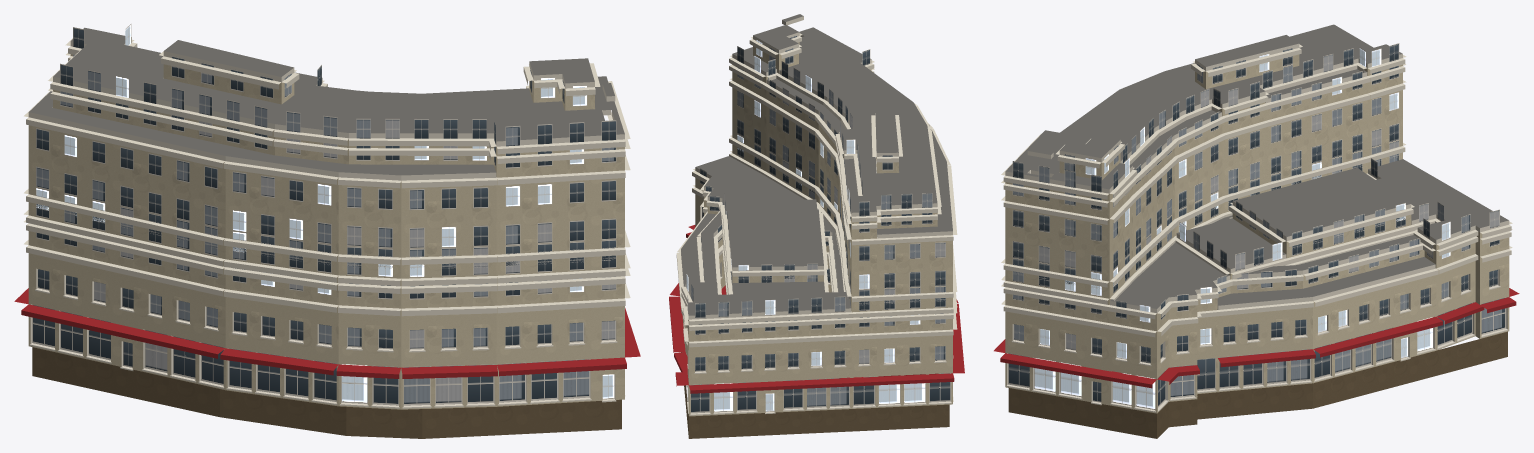
The model's file is zett_haus.glb.
3 renders of one model, left to right at view 1: azimuth 30°, elevation 25°; view 2: azimuth 150°, elevation 25°; view 3: azimuth 270°, elevation 25°, orthographic. The views are drawn at different scales.
Visible parts, largest first — view 1: zett_haus; view 2: zett_haus; view 3: zett_haus.
Part boxes in pixels (x1,y1,x2,y2): zett_haus: (14, 24, 640, 438); zett_haus: (669, 14, 964, 438); zett_haus: (994, 24, 1519, 438).
Bounding box in the file's own units: 48.79 × 31.2 × 56.52.
3 materials, 3 textured.
